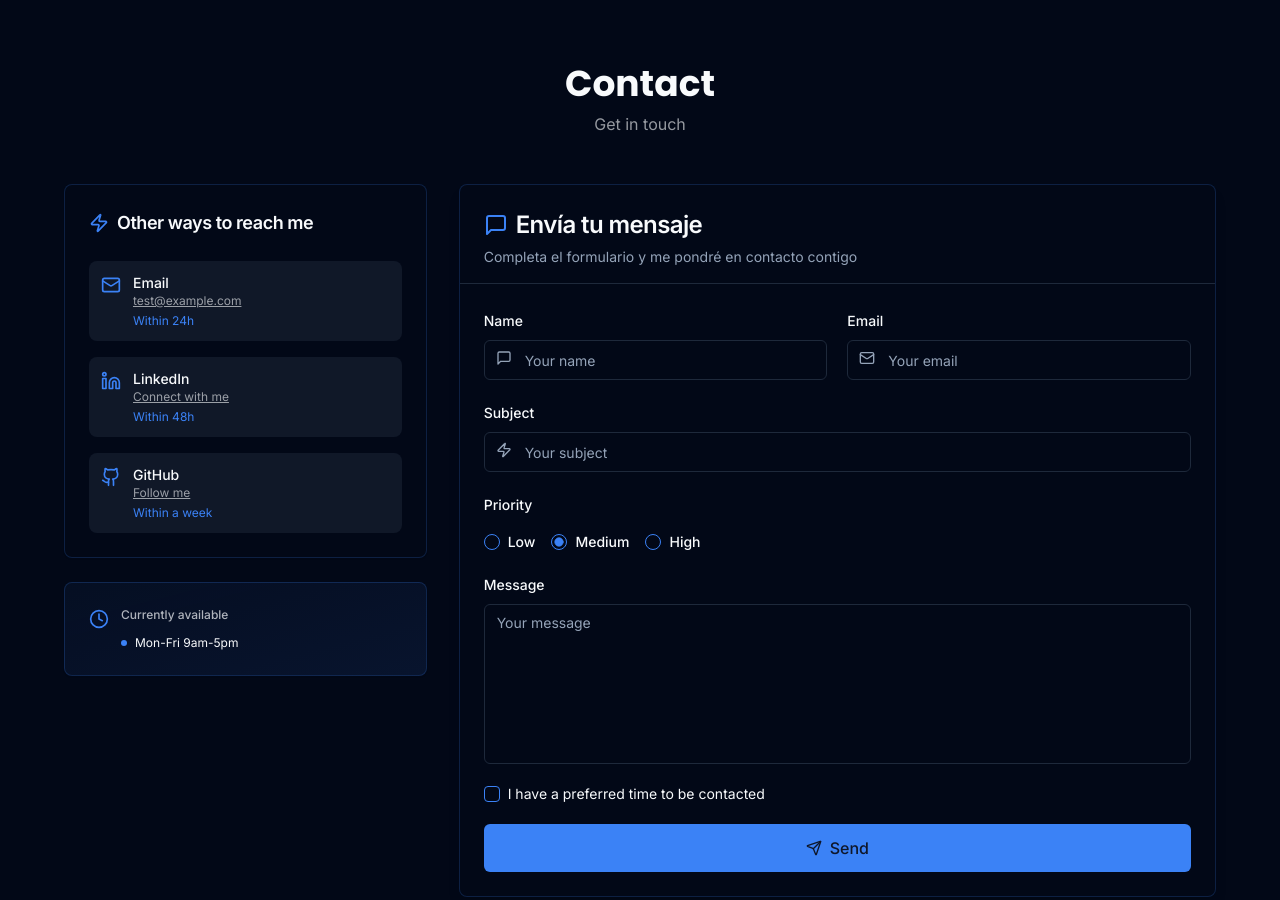
ContactForm › shows an email validation error for an invalid email format while other fields are valid
The image size is (1280, 900).
Type "John Doe" into the field with placeholder "Your name".
click(656, 360); type("John Doe")  # box [484, 340, 827, 380]
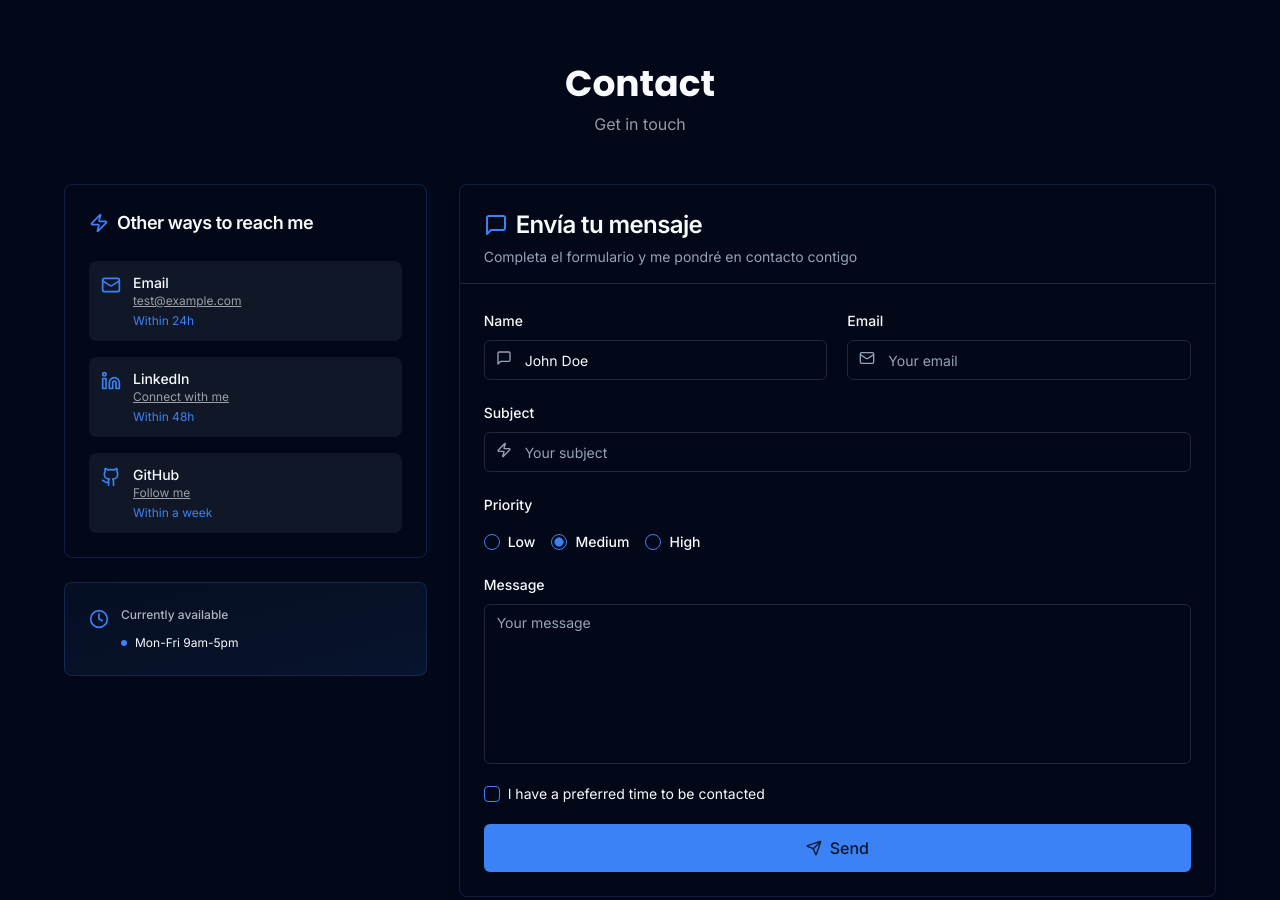
Type "not-an-email" into the field with placeholder "Your email".
click(1019, 360); type("not-an-email")  # box [847, 340, 1191, 380]
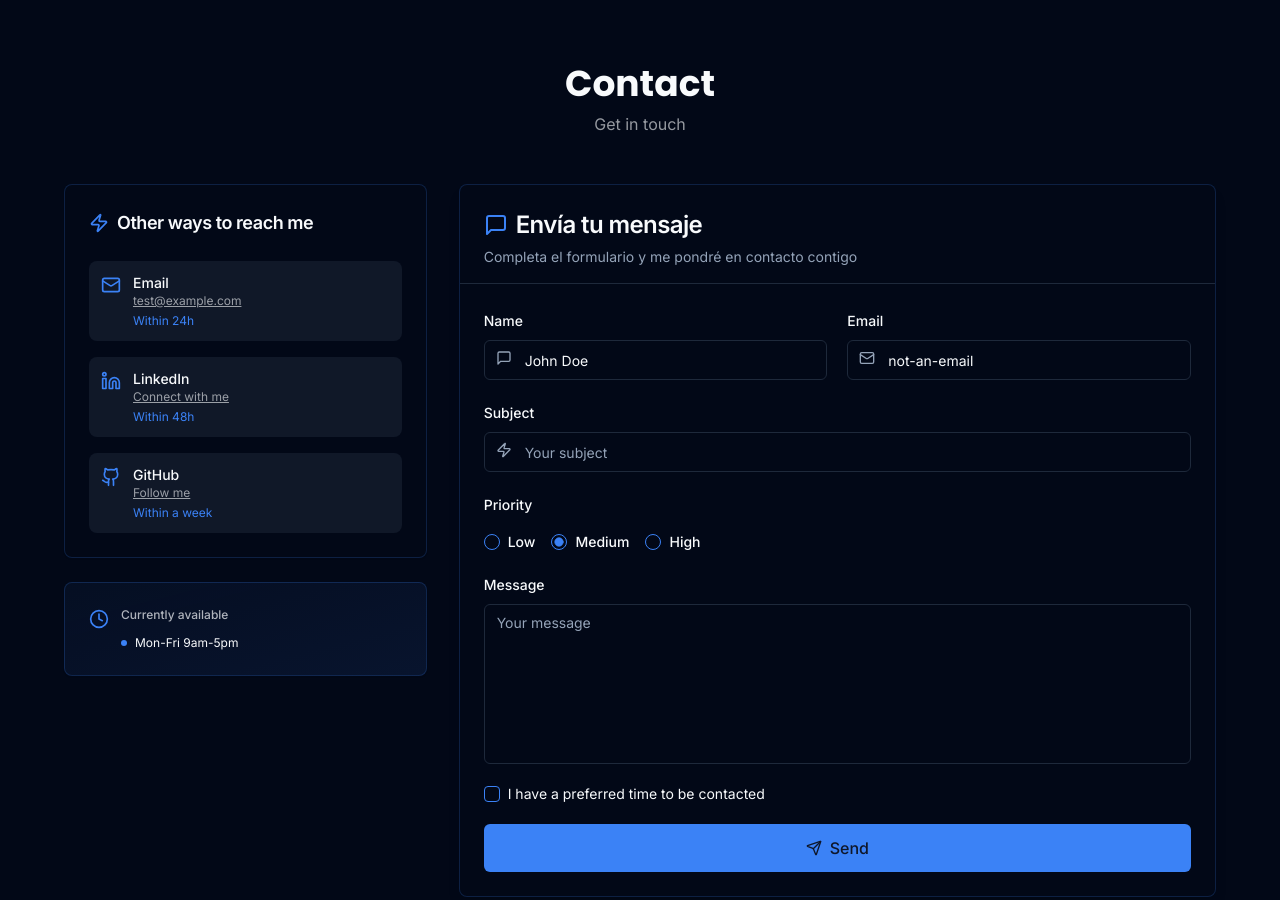
Type "This is a valid message body." into the text box with placeholder "Your message".
click(837, 684); type("This is a valid message body.")  # box [484, 604, 1191, 764]
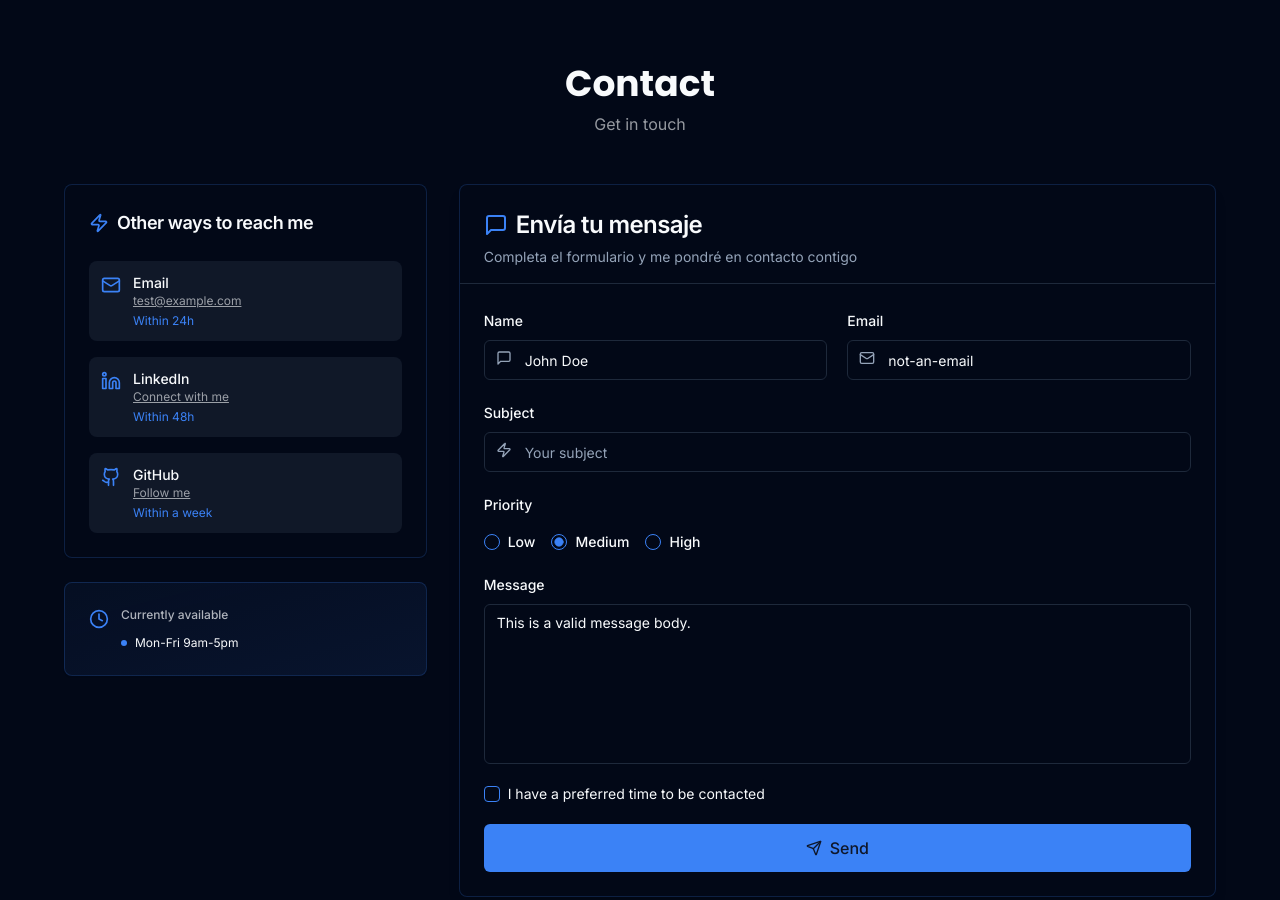
Submit the form, box [484, 308, 1191, 872]
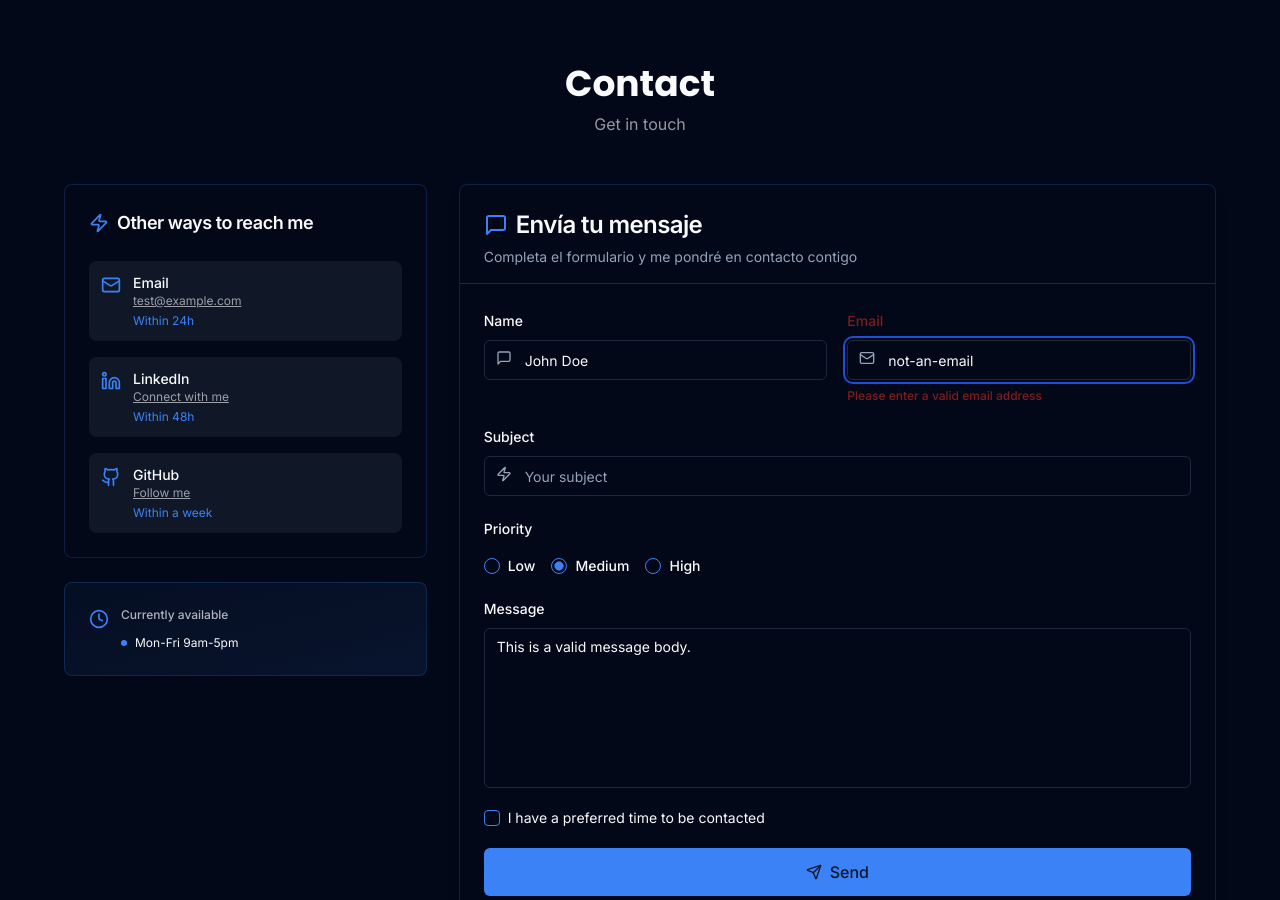
Expected: the text "Please enter a valid email address" is shown, [847, 388, 1042, 403]
